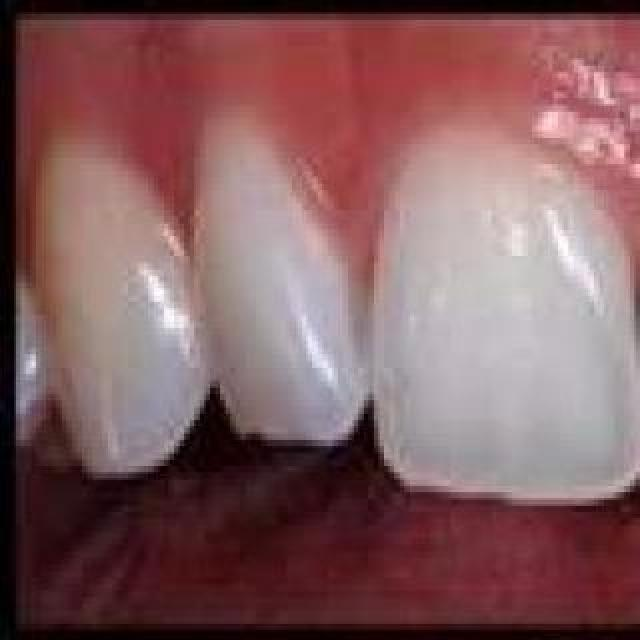spacing: (600, 270, 640, 528)
